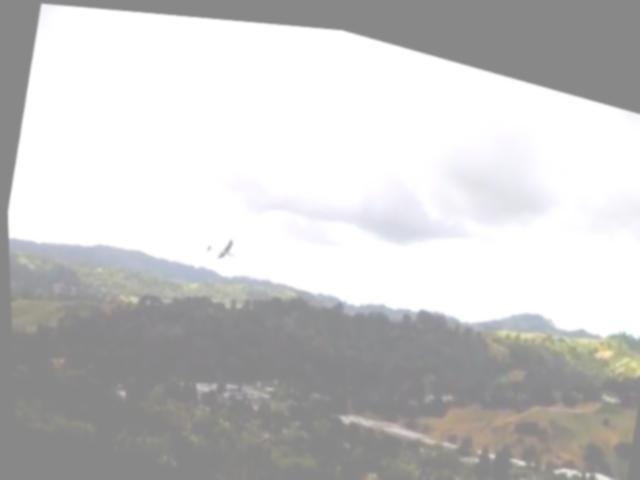iha: (200, 224, 244, 264)
